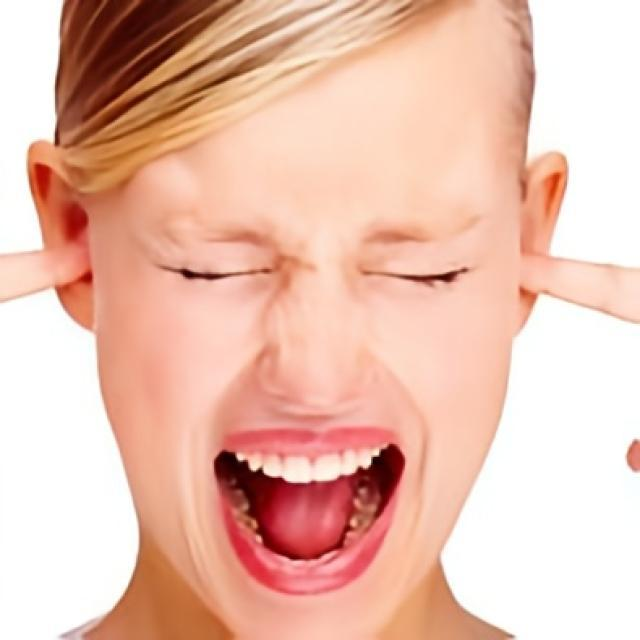Fear: (89, 29, 523, 613)
